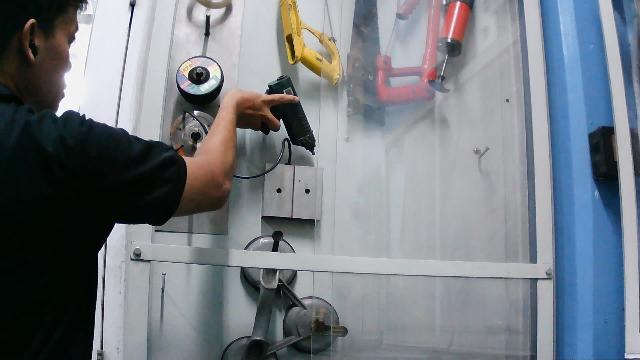gun_lem: (249, 71, 325, 161)
